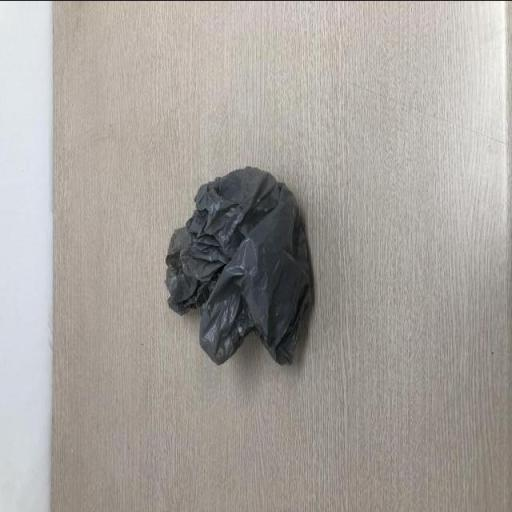plastic-bag: (162, 162, 315, 366)
